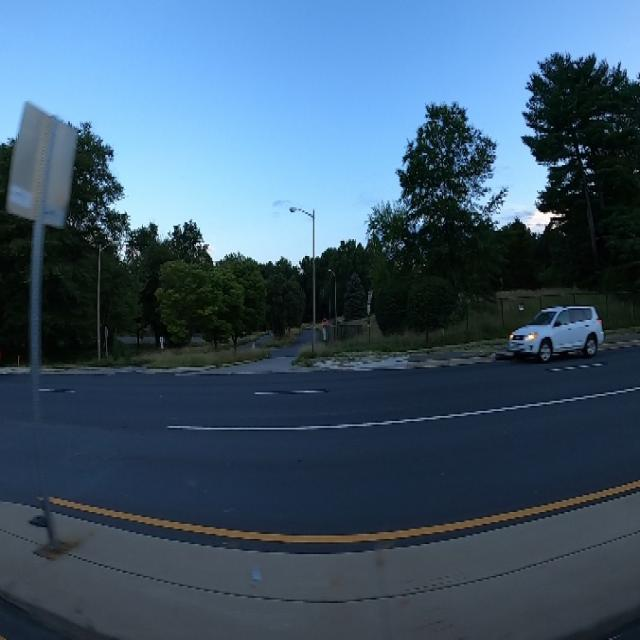cars: (510, 296, 608, 364)
